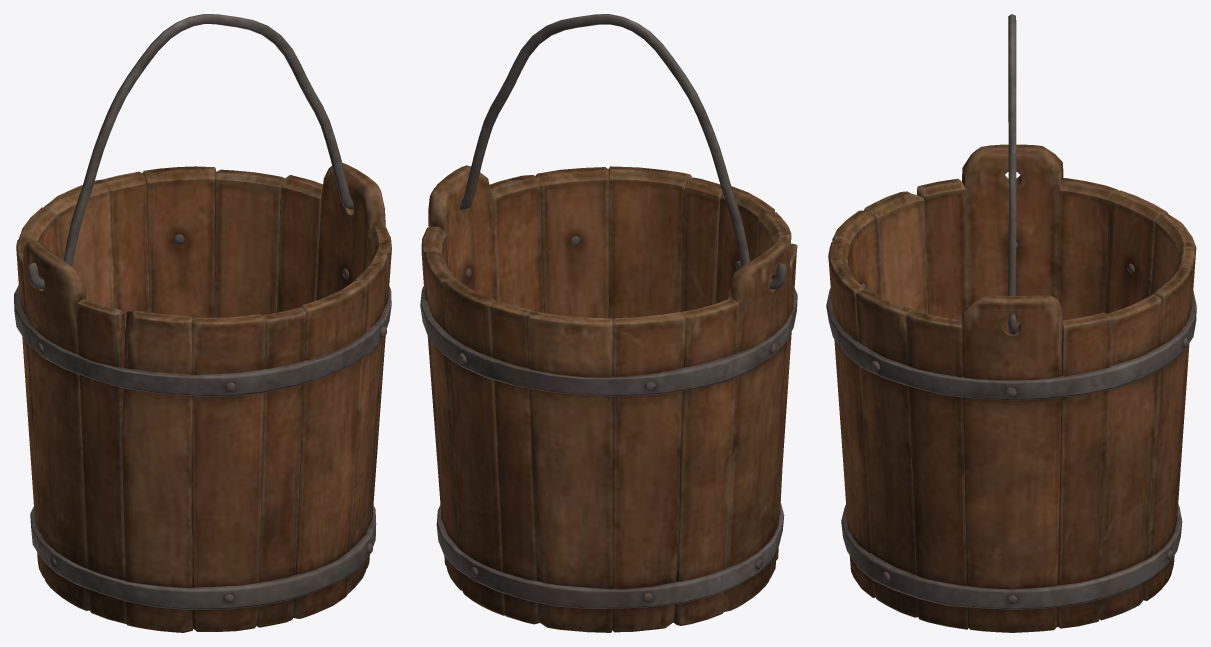
3 renders of one model, left to right at view 1: azimuth 30°, elevation 25°; view 2: azimuth 150°, elevation 25°; view 3: azimuth 270°, elevation 25°, orthographic.
Visible parts, largest first — view 1: wooden_bucket_01, wooden_bucket_01_handle; view 2: wooden_bucket_01, wooden_bucket_01_handle; view 3: wooden_bucket_01, wooden_bucket_01_handle.
Boxes of the visible parts, x1,y1,x2,y2 form: wooden_bucket_01: (14, 163, 391, 632); wooden_bucket_01_handle: (27, 14, 354, 289); wooden_bucket_01: (420, 165, 797, 632); wooden_bucket_01_handle: (437, 14, 786, 289); wooden_bucket_01: (826, 144, 1196, 632); wooden_bucket_01_handle: (1008, 14, 1016, 335).
Bounding box in the file's own units: 0.367 × 0.5499 × 0.3422.
1 material, 1 textured.
